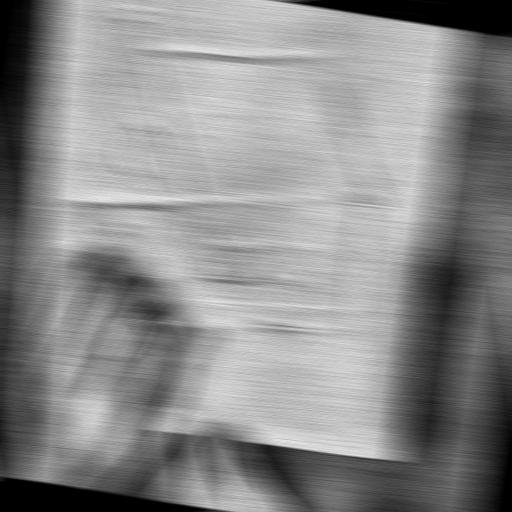house: (52, 0, 420, 352)
top_left: (387, 451, 408, 465)
